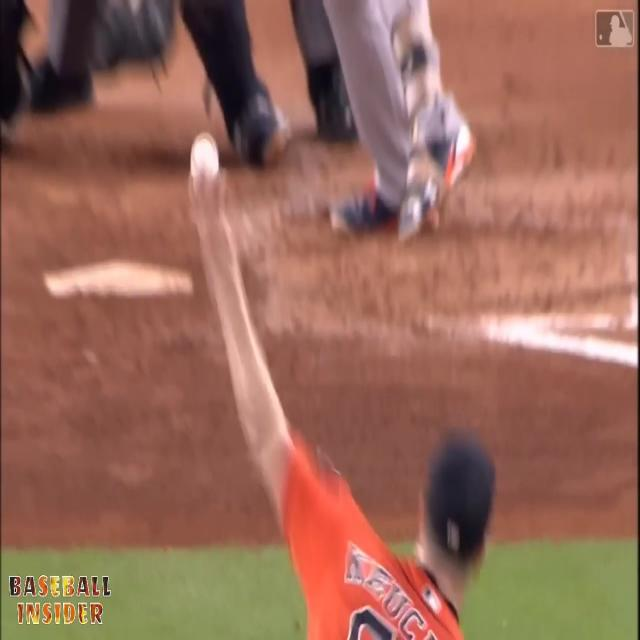baseball: (190, 132, 220, 182)
